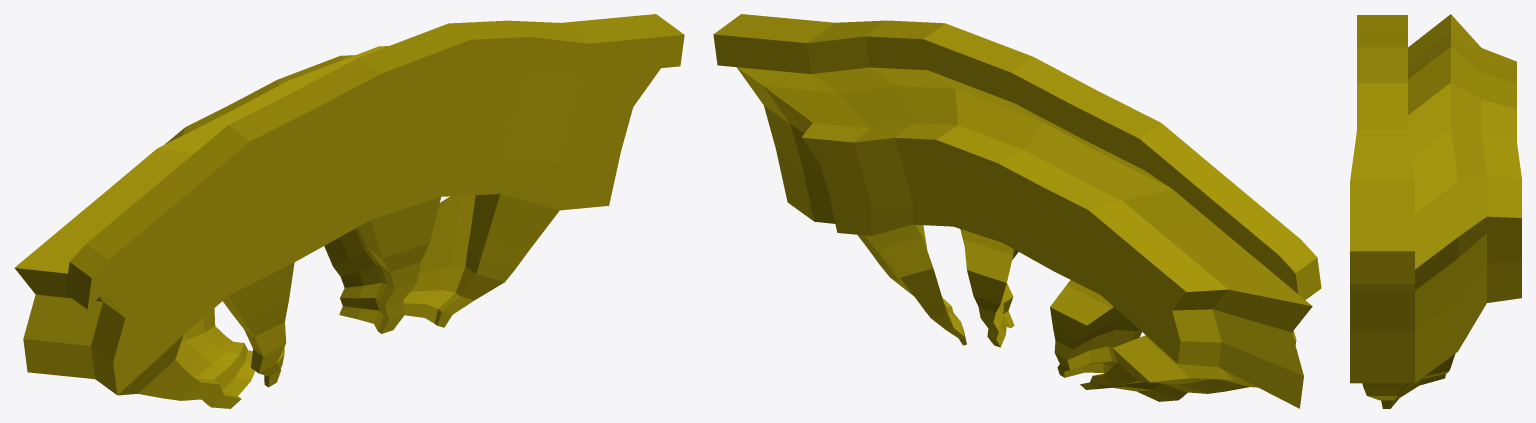
File: STATUE.obj
The picture shows the model from 3 angles, left to right: view 1: azimuth 30°, elevation 25°; view 2: azimuth 150°, elevation 25°; view 3: azimuth 270°, elevation 25°; orthographic projection. The views are drawn at different scales.
Visible parts, largest first — view 1: Cube.764_Cube.960; view 2: Cube.764_Cube.960; view 3: Cube.764_Cube.960.
Boxes of the visible parts, x1=… form: Cube.764_Cube.960: x1=14, y1=14, x2=684, y2=408; Cube.764_Cube.960: x1=713, y1=14, x2=1321, y2=408; Cube.764_Cube.960: x1=1350, y1=14, x2=1521, y2=408.
Size of the model in its own units: 2.8 by 1.37 by 0.5836.
